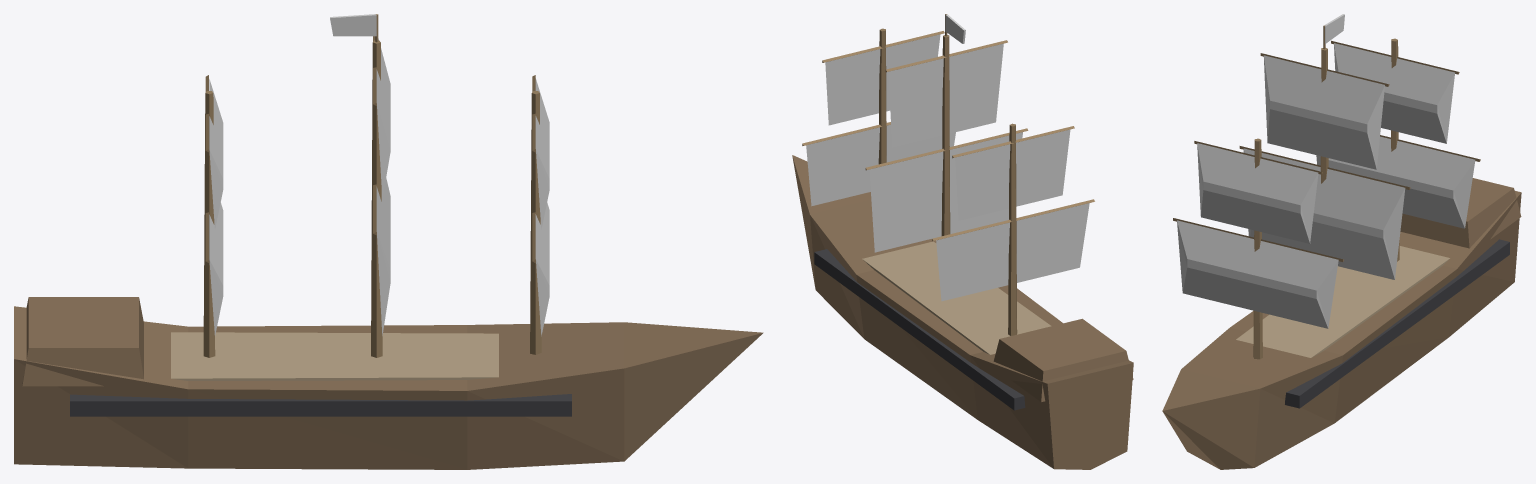
File: frigate.glb
3 renders of one model, left to right at view 1: azimuth 30°, elevation 25°; view 2: azimuth 150°, elevation 25°; view 3: azimuth 270°, elevation 25°, orthographic. The views are drawn at different scales.
Visible parts, largest first — view 1: LOD0; view 2: LOD0; view 3: LOD0.
Part boxes in pixels (bbox=[...]): LOD0: bbox=[14, 14, 763, 469]; LOD0: bbox=[792, 14, 1133, 469]; LOD0: bbox=[1162, 14, 1521, 469].
Size of what is drawn, in the model's own units: 2.44 by 1.74 by 1.54.
